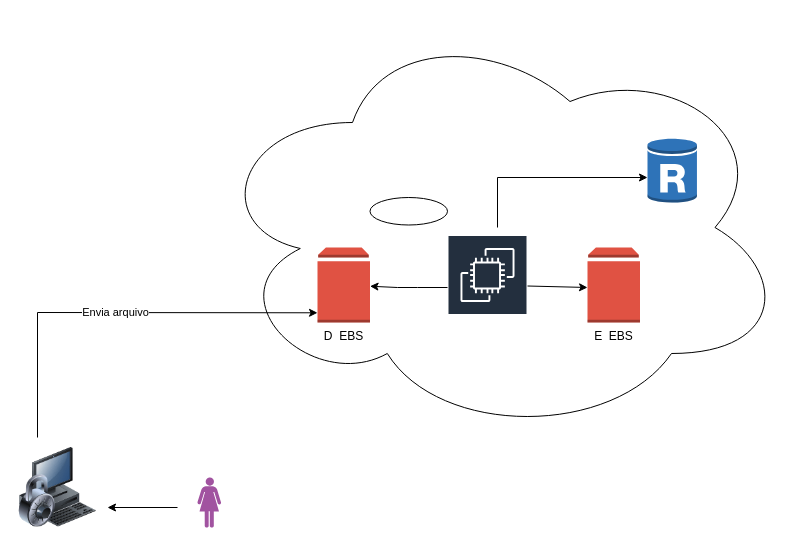
Some shapes in this 805 by 545 pixel diagram are drawn without their labels. Here are the shapes that lost their labels. From the top down, the centre of each, then its label:
At pixel 408 210: "AWS".
At pixel 487 284: "Amazon EC2".
